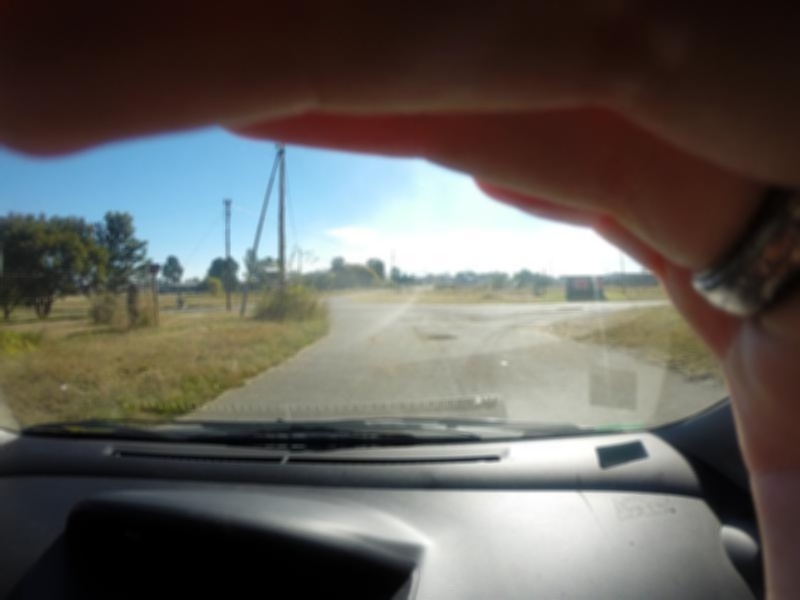pothole: (426, 329, 465, 347)
